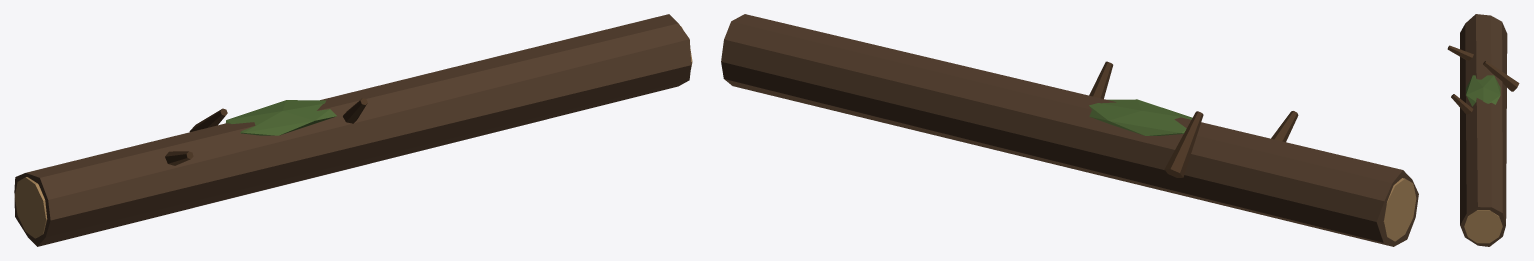
Rendered from Log1.glb.
The picture shows the model from 3 angles, left to right: view 1: azimuth 30°, elevation 25°; view 2: azimuth 150°, elevation 25°; view 3: azimuth 270°, elevation 25°; orthographic projection. The views are drawn at different scales.
Parts seen in each view (by area): view 1: Log1; view 2: Log1; view 3: Log1.
Boxes of the visible parts, x1,y1,x2,y2 form: Log1: (14, 14, 692, 246); Log1: (721, 14, 1418, 246); Log1: (1447, 14, 1519, 246).
Size of the model in its own units: 22.16 by 2.81 by 3.49.
